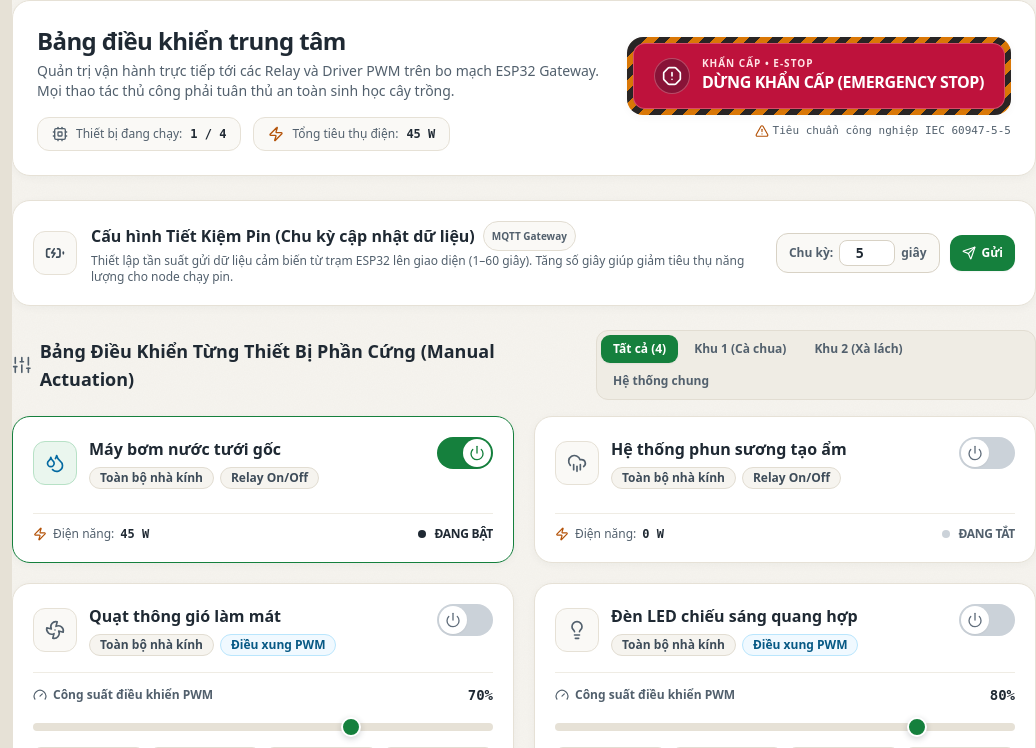
Test case: ControlsPage Hardware Actuation › triggers emergency stop button to safely shut down actuators
Click the button "KHẨN CẤP • E-STOP DỪNG KHẨN CẤP (EMERGENCY STOP)" at (819, 76), box [633,43,1005,109]
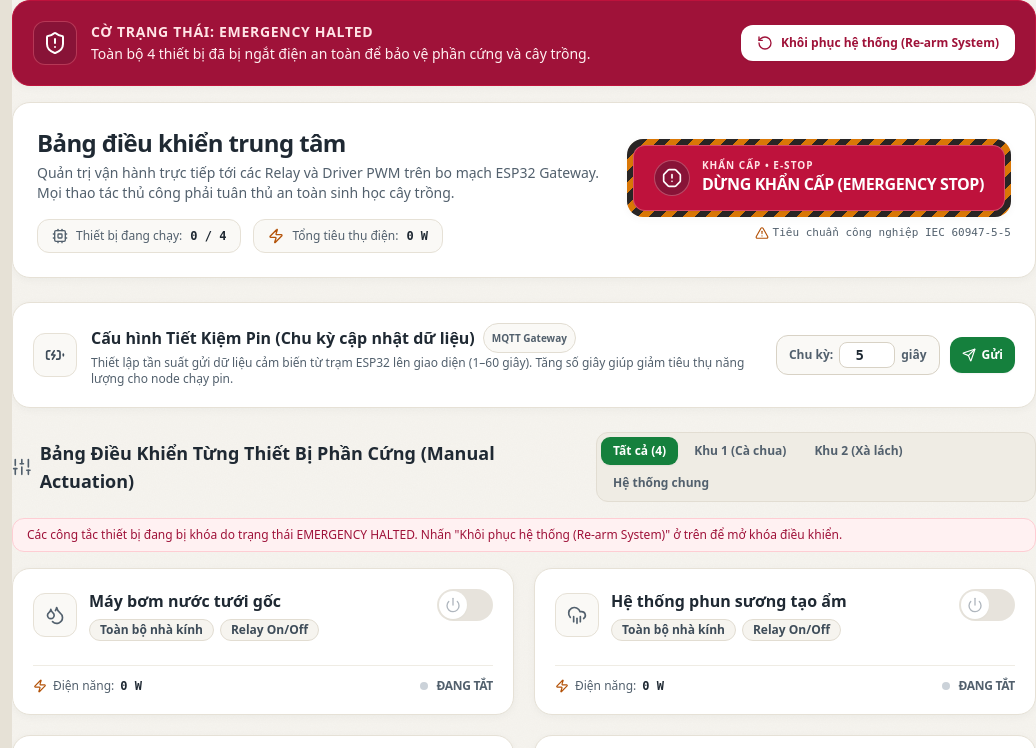
Expected: the text "ĐANG BẬT" is not shown
